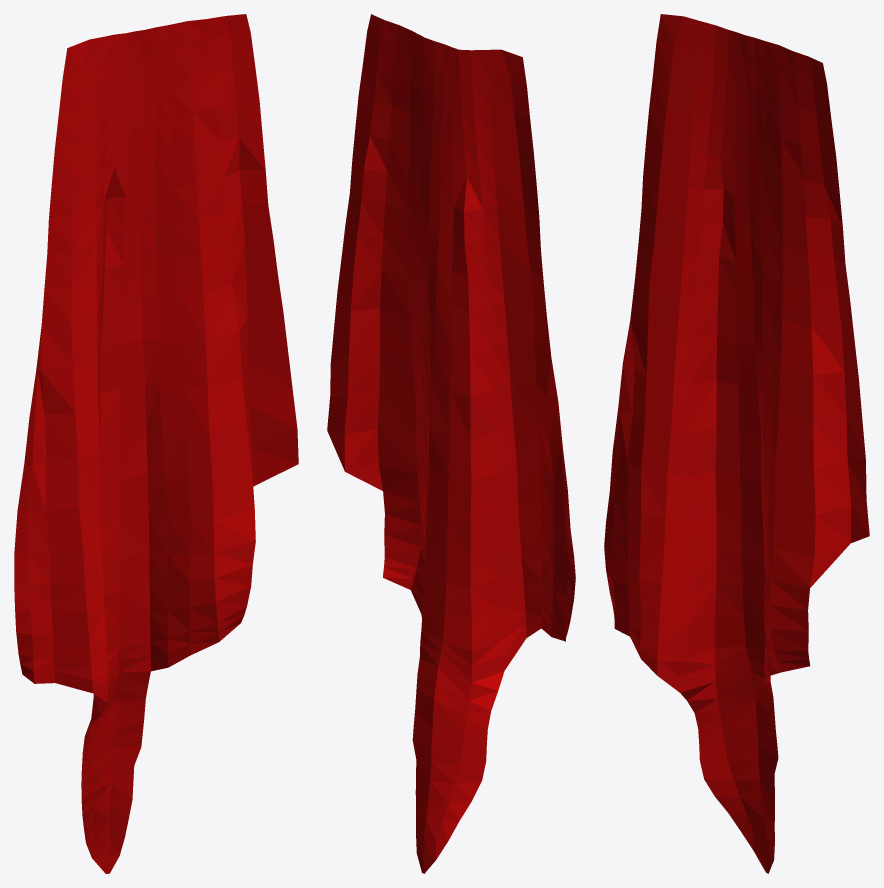
The model's file is Prop_Gothic_Hanging_Cloth_Curtain_Banner_01.FBX.
3 views of the same model, side by side, from view 1: azimuth 30°, elevation 25°; view 2: azimuth 150°, elevation 25°; view 3: azimuth 330°, elevation 25° (orthographic). The views are drawn at different scales.
Parts seen in each view (by area): view 1: Prop_Gothic_Hanging_Cloth_Curtain_Banner_01; view 2: Prop_Gothic_Hanging_Cloth_Curtain_Banner_01; view 3: Prop_Gothic_Hanging_Cloth_Curtain_Banner_01.
Boxes of the visible parts, x1,y1,x2,y2 form: Prop_Gothic_Hanging_Cloth_Curtain_Banner_01: (14,14,298,873); Prop_Gothic_Hanging_Cloth_Curtain_Banner_01: (327,14,575,873); Prop_Gothic_Hanging_Cloth_Curtain_Banner_01: (604,14,869,873).
Bounding box in the file's own units: 690 × 2088 × 248.
